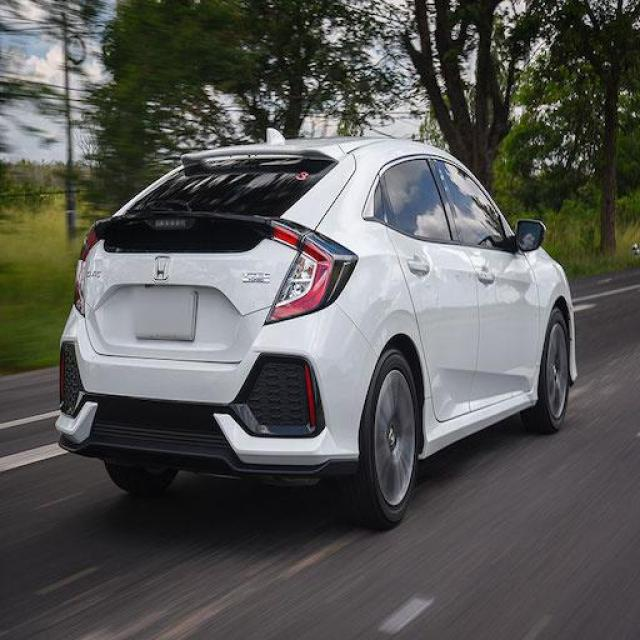back_bumper: (55, 305, 378, 474)
back_glass: (128, 159, 338, 218)
back_left_light: (75, 221, 97, 314)
back_right_door: (378, 156, 480, 424)
back_right_light: (262, 217, 356, 324)
front_right_door: (435, 156, 540, 414)
right_mirror: (517, 220, 548, 253)
trunk: (84, 210, 300, 362)
wheel: (358, 307, 571, 520)
